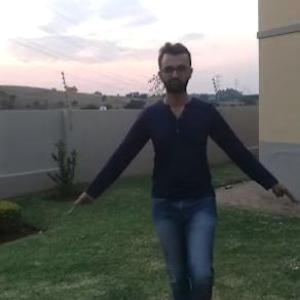land: (106, 62, 268, 280)
